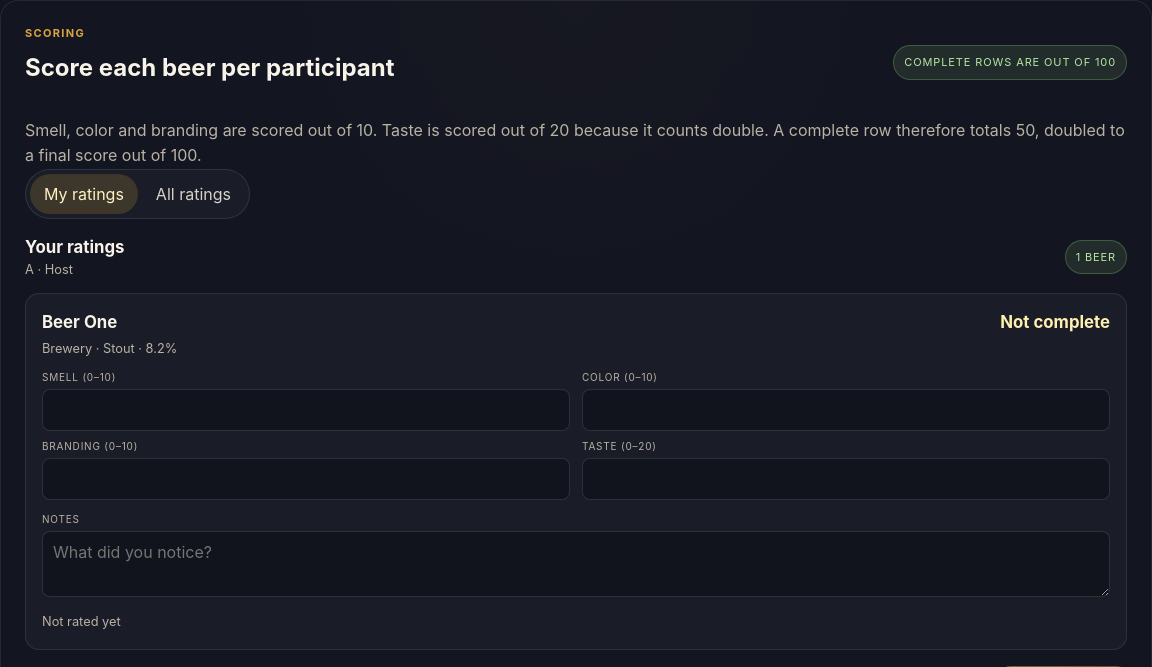
Scenario: ScoreBoard › defaults to My ratings for the signed-in participant and can switch to All ratings
Expected: the heading "Beer One" is shown, [42,312,117,332]
Expected: the number field named "Smell score from 0 to 10 for Beer One" is shown, [42,389,570,431]
Step 1. Click the button "All ratings" → point(193, 194), box [142,174,245,214]
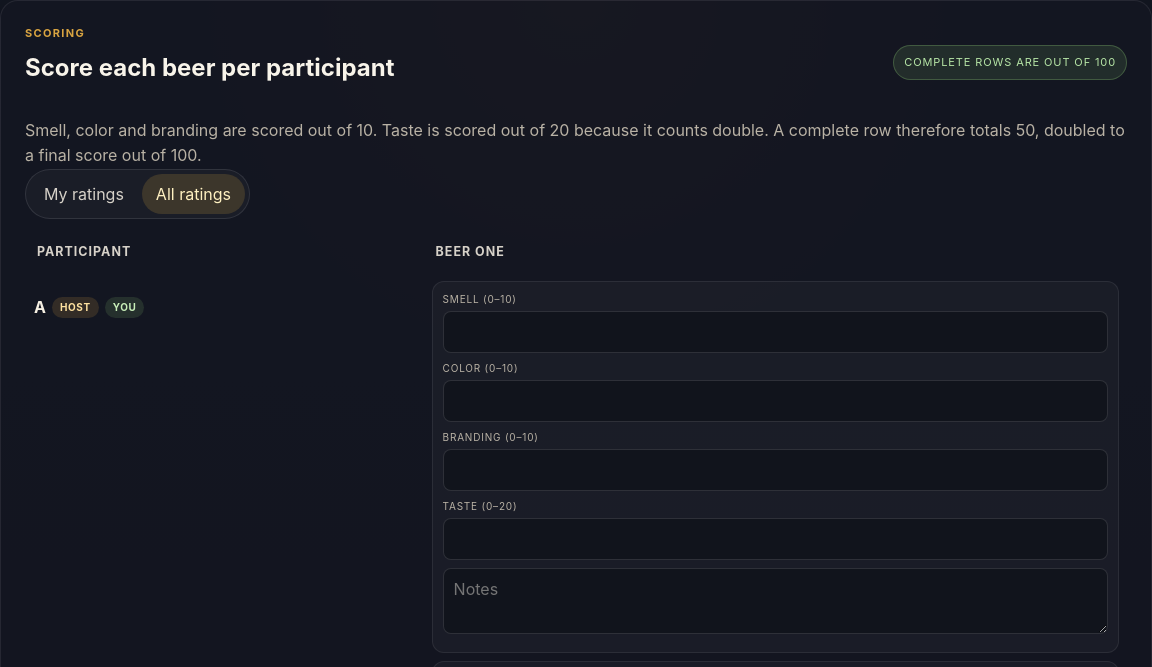
Result: the column heading "Participant" is shown at [33,243,424,265]
